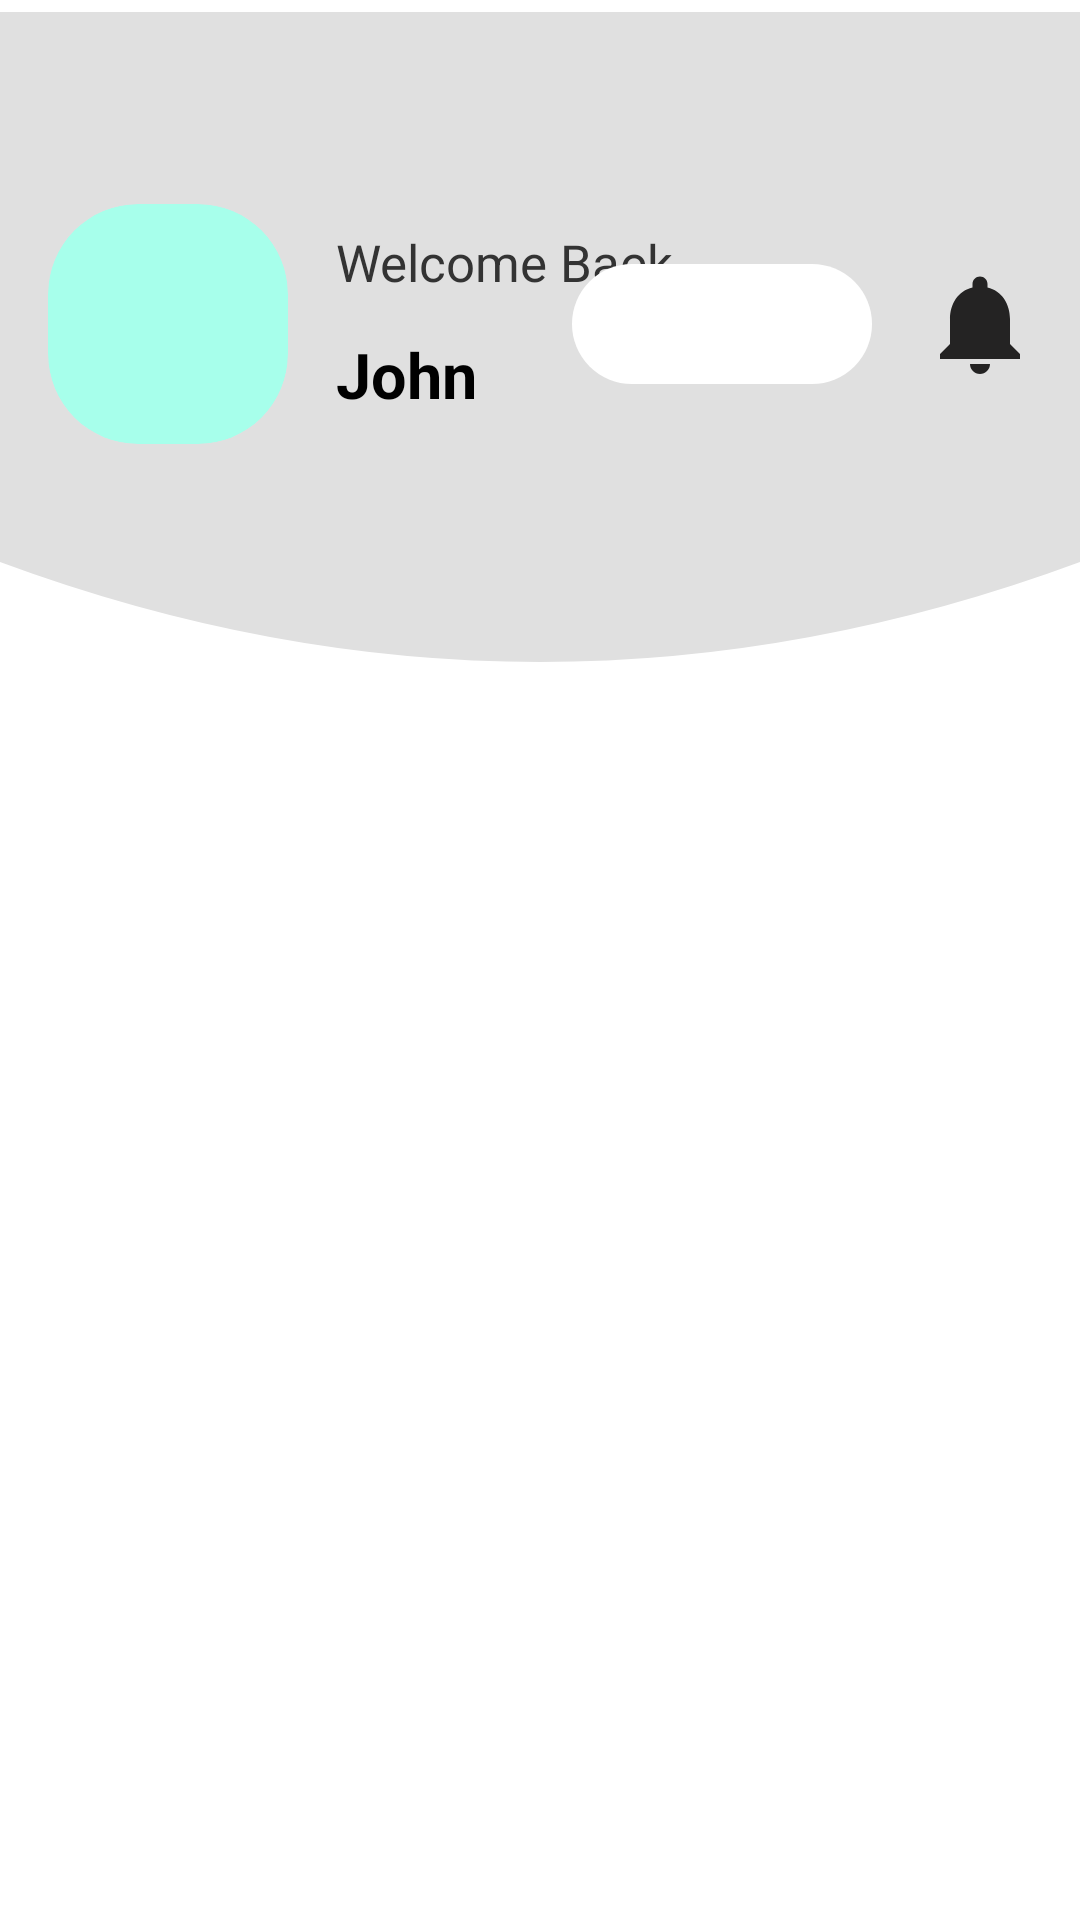

Icon click points for this 1080px×1920px phone screenshot, format point (x, y):
notification: point (980, 325)
